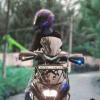motorcycles: (24, 42, 80, 100)
